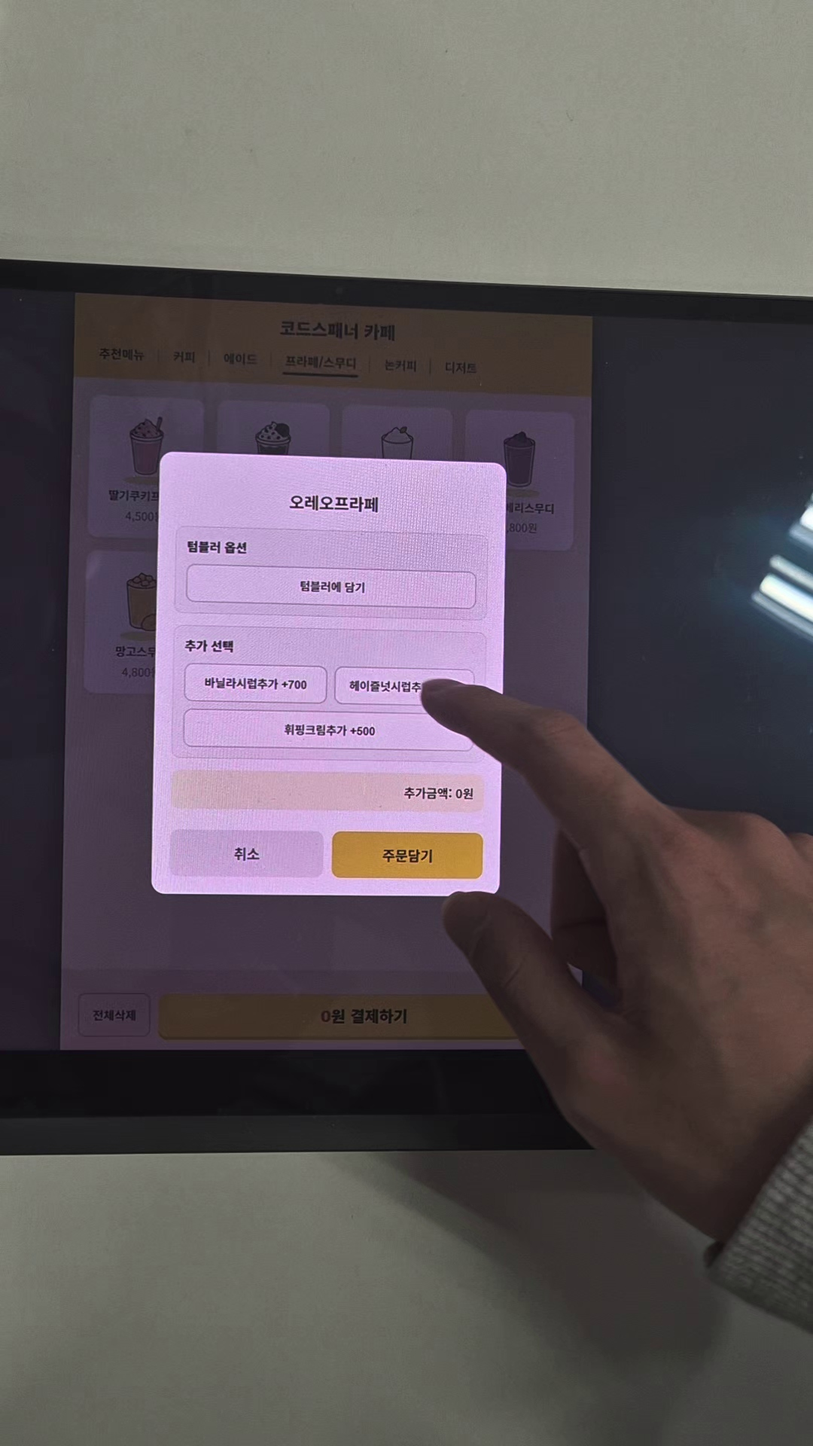action_button: (170, 830, 323, 879), (332, 832, 483, 880)
option_button: (186, 564, 476, 608), (183, 709, 473, 751), (184, 664, 326, 703), (334, 667, 474, 706)
popup_modal: (151, 451, 507, 897)
